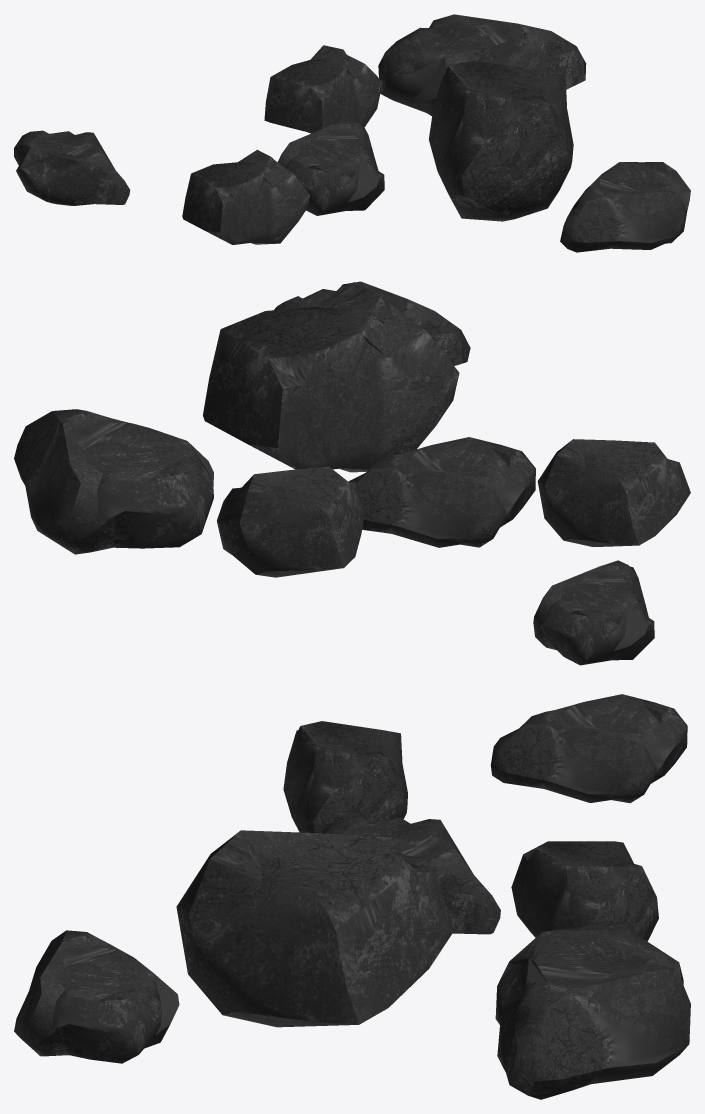
Rendered from static.fbx.
3 views of the same model, one above another, from view 1: azimuth 30°, elevation 25°; view 2: azimuth 150°, elevation 25°; view 3: azimuth 270°, elevation 25° (orthographic). The views are drawn at different scales.
Visible parts, largest first — view 1: Aset_nature_rock_S_wd3efb0_00_LOD4_3, Aset_nature_rock_S_wdcbcds_00_LOD3_5, Aset_nature_rock_S_wdcbcds_00_LOD3_2, Aset_nature_rock_S_wd3efb0_00_LOD4_2, Aset_nature_rock_S_wd3efb0_00_LOD4_4, Aset_nature_rock_S_wdcbcds_00_LOD3_3, Aset_nature_rock_S_wdcbcds_00_LOD3_4; view 2: Aset_nature_rock_S_wd3efb0_00_LOD4_3, Aset_nature_rock_S_wdcbcds_00_LOD3_5, Aset_nature_rock_S_wdcbcds_00_LOD3_3, Aset_nature_rock_S_wd3efb0_00_LOD4_4, Aset_nature_rock_S_wd3efb0_00_LOD4_2, Aset_nature_rock_S_wdcbcds_00_LOD3_4, Aset_nature_rock_S_wdcbcds_00_LOD3_2; view 3: Aset_nature_rock_S_wd3efb0_00_LOD4_3, Aset_nature_rock_S_wdcbcds_00_LOD3_5, Aset_nature_rock_S_wdcbcds_00_LOD3_4, Aset_nature_rock_S_wdcbcds_00_LOD3_2, Aset_nature_rock_S_wd3efb0_00_LOD4_2, Aset_nature_rock_S_wd3efb0_00_LOD4_4, Aset_nature_rock_S_wdcbcds_00_LOD3_3.
Boxes of the visible parts, x1,y1,x2,y2 form: Aset_nature_rock_S_wd3efb0_00_LOD4_3: (429,60,573,221); Aset_nature_rock_S_wdcbcds_00_LOD3_5: (378,14,586,115); Aset_nature_rock_S_wdcbcds_00_LOD3_2: (560,162,690,252); Aset_nature_rock_S_wd3efb0_00_LOD4_2: (182,149,309,244); Aset_nature_rock_S_wd3efb0_00_LOD4_4: (264,45,382,133); Aset_nature_rock_S_wdcbcds_00_LOD3_3: (278,119,384,215); Aset_nature_rock_S_wdcbcds_00_LOD3_4: (14,130,130,205); Aset_nature_rock_S_wd3efb0_00_LOD4_3: (203,282,459,472); Aset_nature_rock_S_wdcbcds_00_LOD3_5: (14,409,213,554); Aset_nature_rock_S_wdcbcds_00_LOD3_3: (348,437,535,547); Aset_nature_rock_S_wd3efb0_00_LOD4_4: (217,466,364,577); Aset_nature_rock_S_wd3efb0_00_LOD4_2: (537,439,690,546); Aset_nature_rock_S_wdcbcds_00_LOD3_4: (533,560,654,665); Aset_nature_rock_S_wdcbcds_00_LOD3_2: (274,281,470,365); Aset_nature_rock_S_wd3efb0_00_LOD4_3: (176,830,455,1027); Aset_nature_rock_S_wdcbcds_00_LOD3_5: (495,920,690,1099); Aset_nature_rock_S_wdcbcds_00_LOD3_4: (490,694,687,803); Aset_nature_rock_S_wdcbcds_00_LOD3_2: (14,930,179,1063); Aset_nature_rock_S_wd3efb0_00_LOD4_2: (283,721,407,833); Aset_nature_rock_S_wd3efb0_00_LOD4_4: (511,841,658,941); Aset_nature_rock_S_wdcbcds_00_LOD3_3: (322,817,500,934).
Size of what is drawn, in the model's own units: 222 by 53.43 by 173.
Materials: 2 (2 with a texture image).
